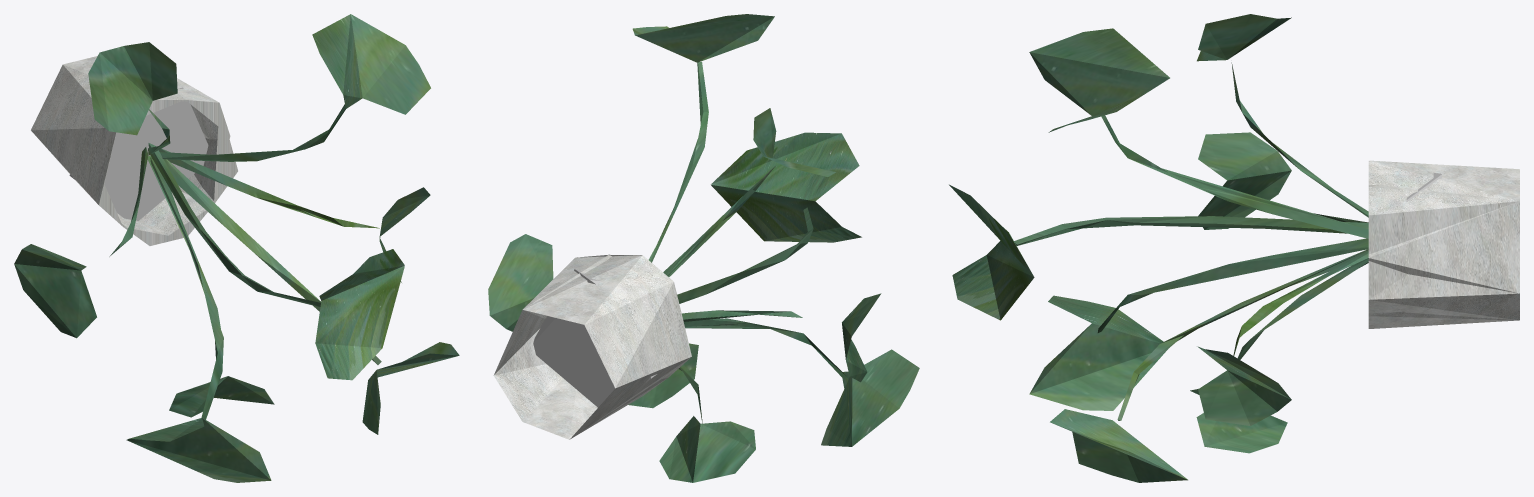
File: pottedplantL4162x2_wtf.obj
The picture shows the model from 3 angles, left to right: view 1: azimuth 30°, elevation 25°; view 2: azimuth 150°, elevation 25°; view 3: azimuth 270°, elevation 25°; orthographic projection. The views are drawn at different scales.
Visible parts, largest first — view 1: group3, group5, group13, group12, group4, group8, group11, group9, group6, group10, group7; view 2: group3, group13, group5, group11, group6, group4, group7, group12, group9, group10, group8; view 3: group3, group5, group11, group12, group9, group10, group13, group7, group8, group6.
Boxes of the visible parts, x1,y1,x2,y2 form: group3: (31, 56, 237, 245); group5: (109, 104, 381, 419); group13: (315, 249, 404, 380); group12: (312, 14, 430, 114); group4: (69, 86, 208, 220); group8: (88, 42, 177, 135); group11: (126, 418, 271, 482); group9: (14, 244, 96, 338); group6: (169, 376, 274, 417); group10: (362, 342, 459, 434); group7: (379, 187, 430, 282); group3: (493, 254, 691, 439); group13: (710, 132, 861, 242); group5: (648, 62, 846, 423); group11: (821, 349, 919, 446); group6: (659, 416, 755, 482); group4: (533, 269, 656, 407); group7: (488, 234, 553, 331); group12: (632, 14, 774, 62); group9: (842, 293, 881, 382); group10: (628, 343, 698, 408); group8: (753, 108, 835, 176); group3: (1368, 160, 1519, 328); group5: (1014, 62, 1368, 420); group11: (1029, 295, 1167, 410); group12: (1029, 28, 1169, 132); group9: (1198, 132, 1291, 229); group10: (1050, 409, 1187, 482); group13: (949, 184, 1034, 320); group7: (1197, 346, 1291, 425); group8: (1197, 14, 1291, 61); group6: (1190, 388, 1287, 453).
Bounding box in the file's own units: 522 × 550 × 660.
